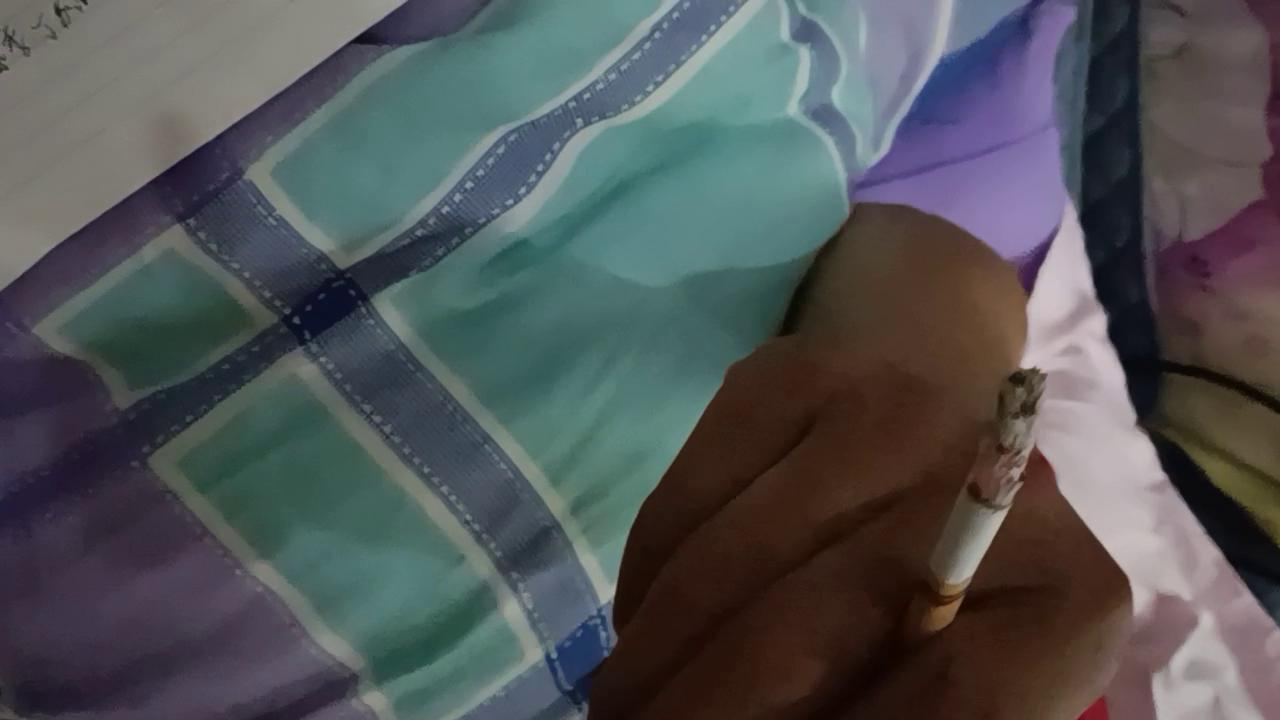smoke: (889, 367, 1052, 687)
